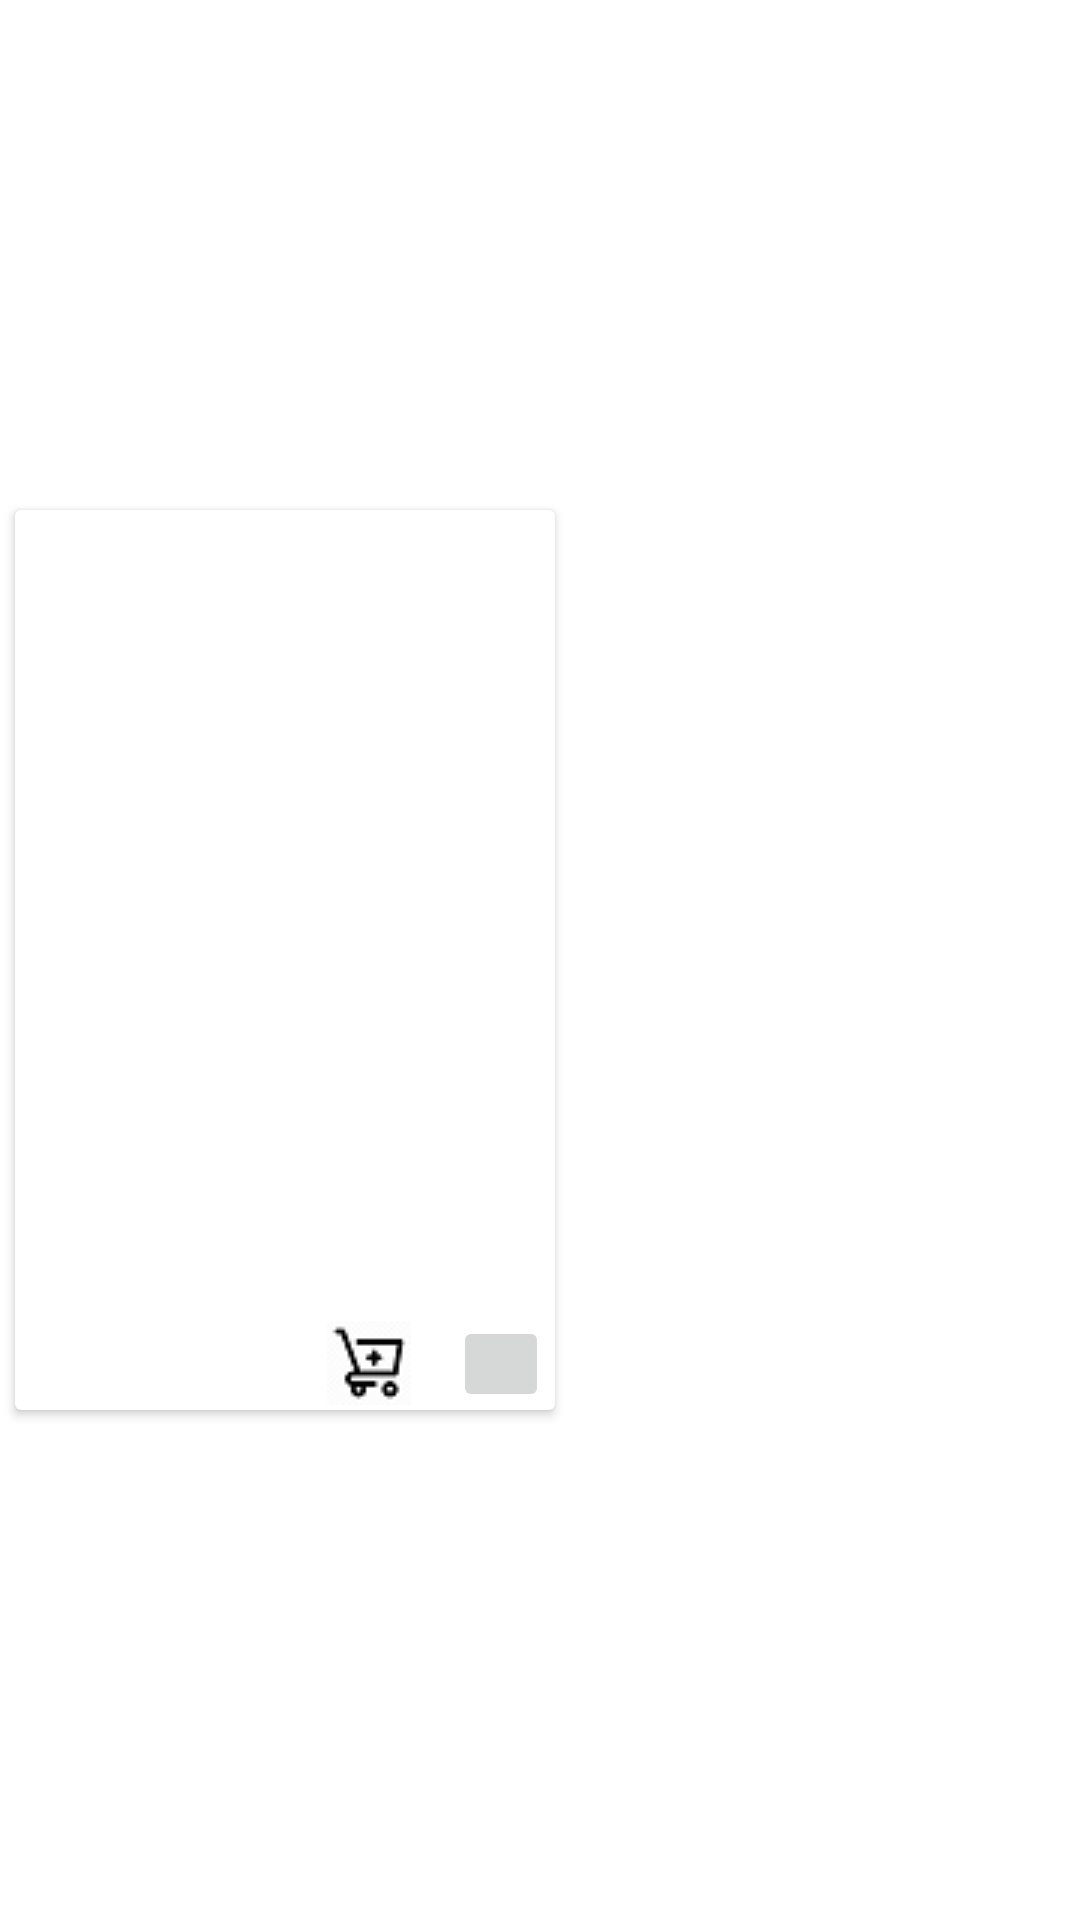

Locate icon controls on the screen. Image size 1080x1920, boxes as (x1, y1, x2, y2).
addtocart: (332, 1326, 406, 1400)
